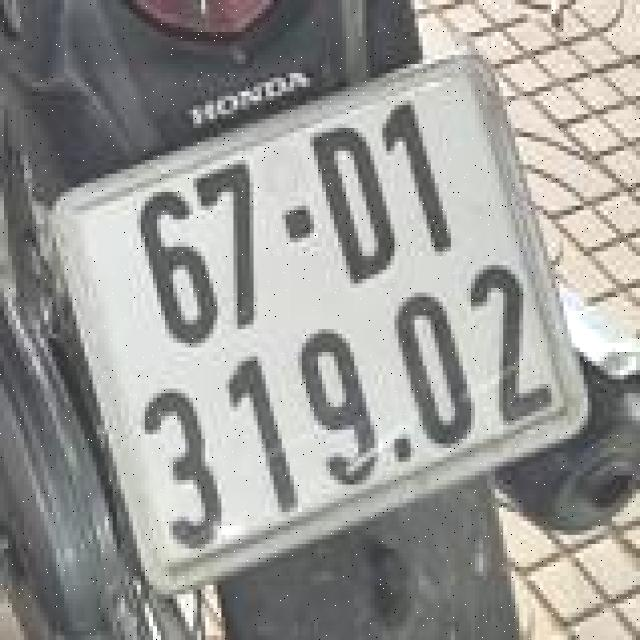0: (381, 276, 488, 461)
1: (213, 340, 322, 532), (368, 82, 478, 271)
2: (457, 245, 564, 433)
3: (129, 373, 240, 567)
6: (131, 177, 231, 364)
7: (181, 148, 285, 347)
8: (286, 309, 400, 505)
D: (295, 106, 416, 304)
